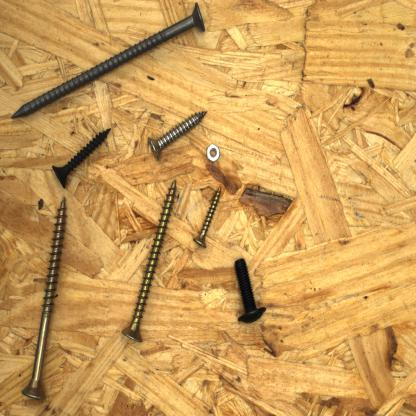screw: (8, 0, 210, 123), (19, 194, 68, 403), (119, 175, 178, 346), (50, 125, 114, 191), (146, 106, 209, 163), (232, 255, 270, 327), (190, 183, 224, 251)
